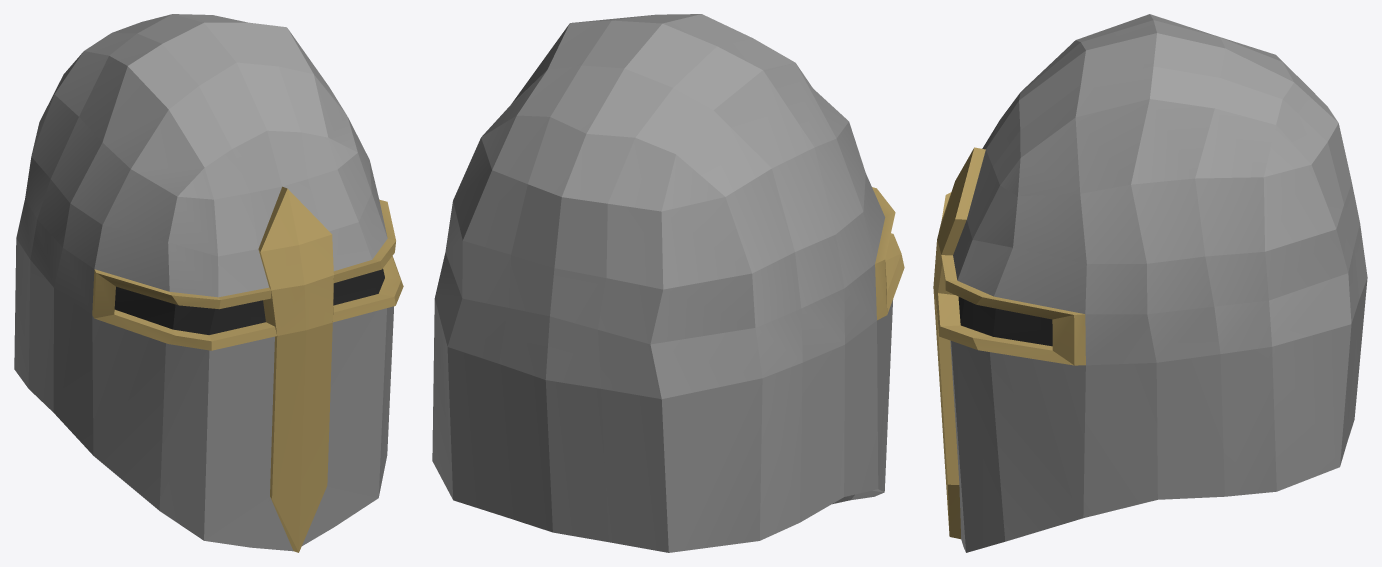
The model's file is Helmet3.glb.
The picture shows the model from 3 angles, left to right: view 1: azimuth 30°, elevation 25°; view 2: azimuth 150°, elevation 25°; view 3: azimuth 270°, elevation 25°; orthographic projection. The views are drawn at different scales.
Visible parts, largest first — view 1: Helmet3; view 2: Helmet3; view 3: Helmet3.
Part boxes in pixels (x1=…): Helmet3: x1=14, y1=14, x2=403, y2=552; Helmet3: x1=432, y1=14, x2=904, y2=552; Helmet3: x1=933, y1=14, x2=1367, y2=552.
Size of the model in its own units: 1.34 by 1.97 by 1.53.
